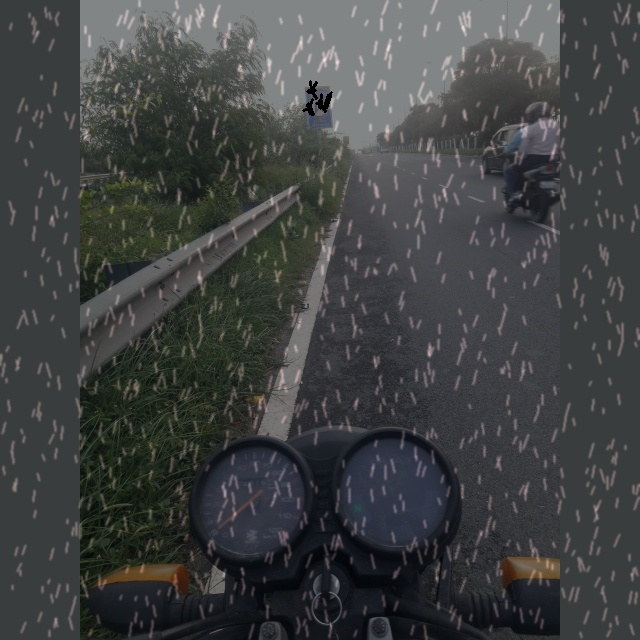U_Turn_Prohibited: (307, 90, 334, 126)
